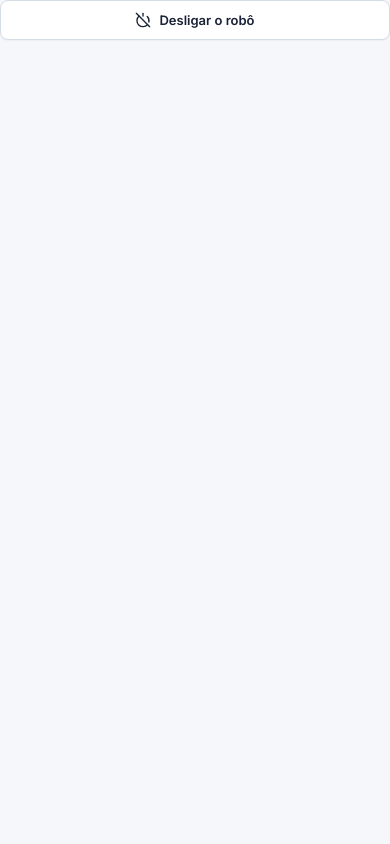
Test: LigarDesligarRobo — desligar › parada sem confirmação do agente é "SOLICITADA", nunca "parada"
The image size is (390, 844).
Click the button "Desligar o robô".
click(195, 20)  # box 0,0 -> 389,40
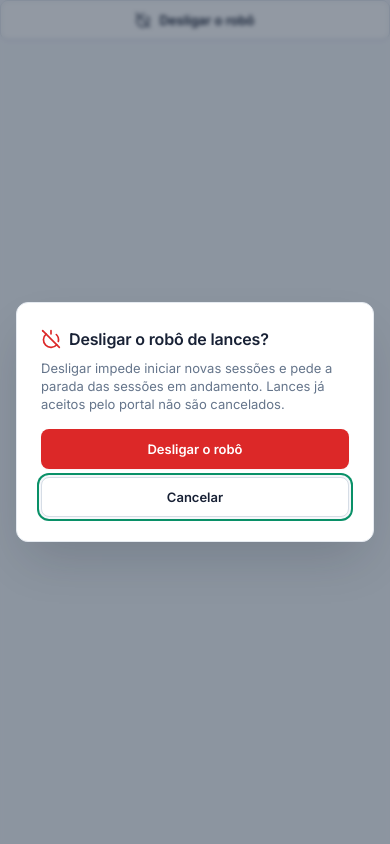
Click the button "Desligar o robô".
click(195, 449)  # box 41,429 -> 349,469
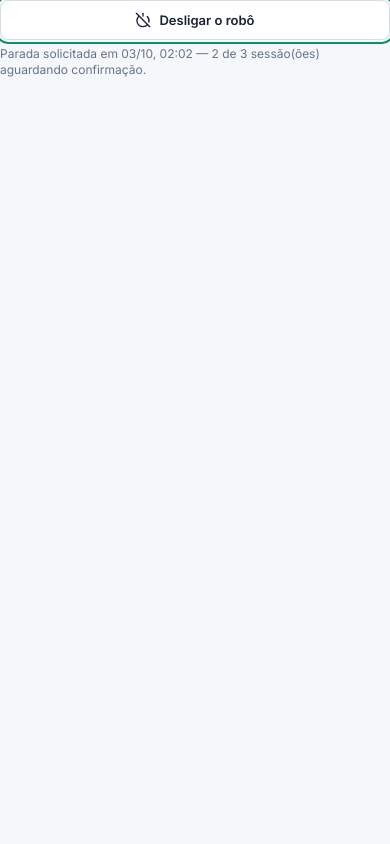
Now the text "Parada solicitada em 03/10, 02:02 — 2 de 3 sessão(ões) aguardando confirmação." is shown, box 0,46 -> 320,77
